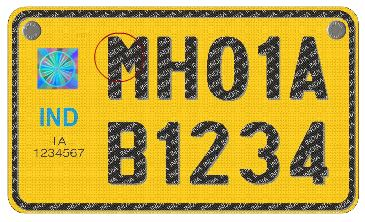number_plate: (7, 6, 359, 213)
